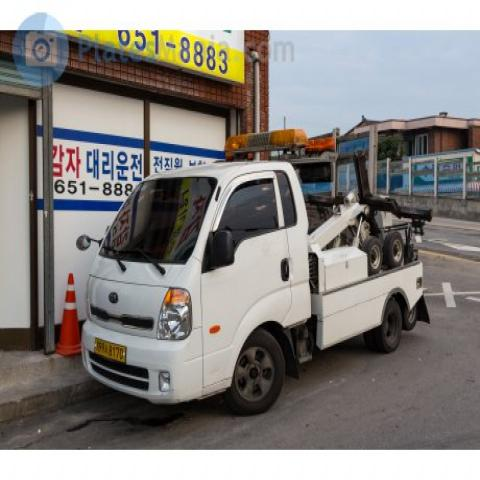LP: (89, 329, 138, 371)
